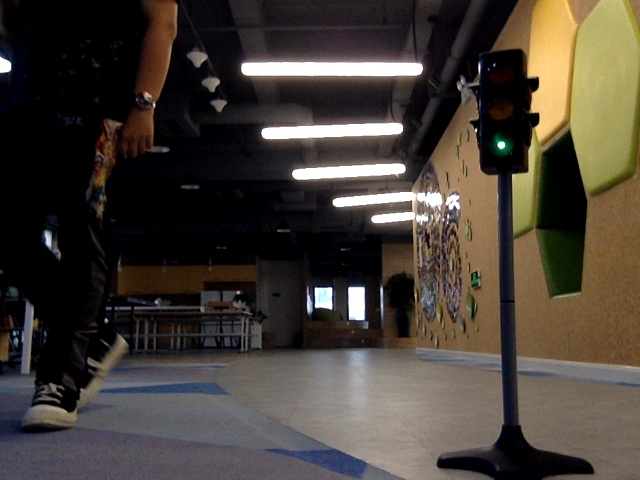green: (479, 52, 523, 166)
